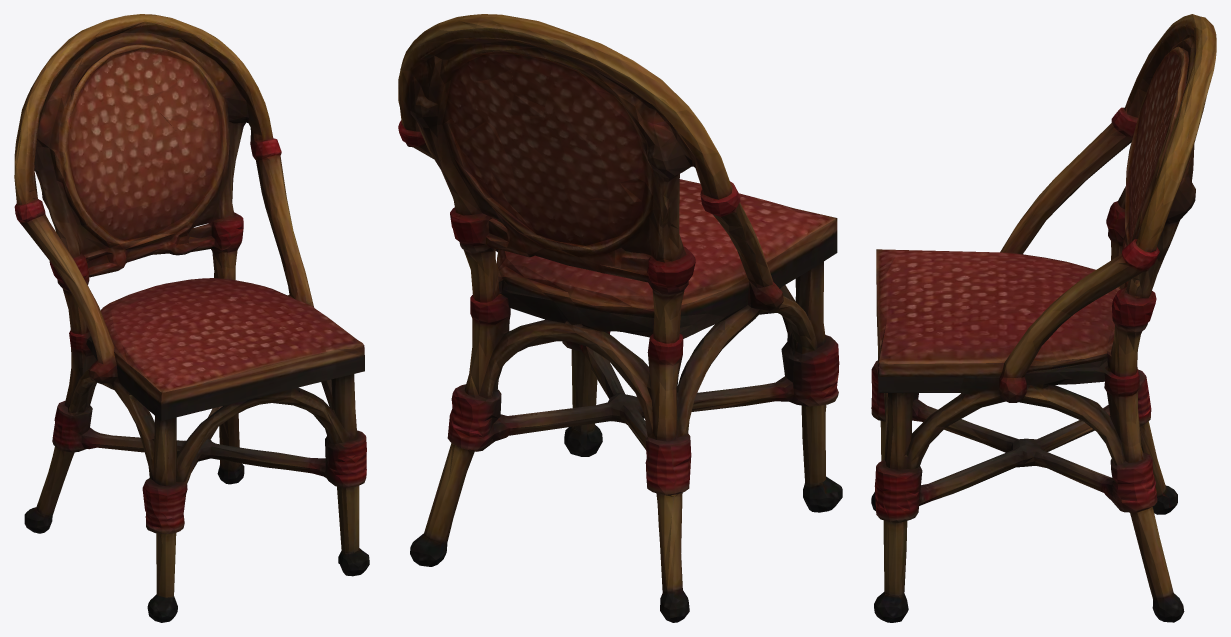
The picture shows the model from 3 angles, left to right: view 1: azimuth 30°, elevation 25°; view 2: azimuth 150°, elevation 25°; view 3: azimuth 270°, elevation 25°; orthographic projection. The views are drawn at different scales.
Visible parts, largest first — view 1: world; view 2: world; view 3: world.
Boxes of the visible parts, x1,y1,x2,y2 form: world: (14,14,369,622); world: (398,14,842,622); world: (871,14,1216,622).
Size of the model in its own units: 0.5856 by 0.9991 by 0.5875.
1 material, 1 textured.
